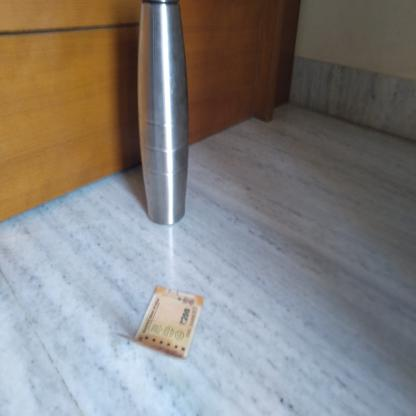New200Front: (132, 290, 200, 346)
